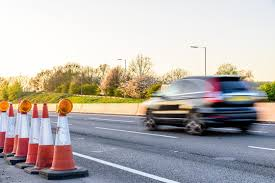car: (143, 75, 261, 135)
cone: (54, 105, 87, 178), (34, 103, 54, 170), (15, 103, 31, 156), (29, 103, 41, 166), (6, 103, 16, 154)
